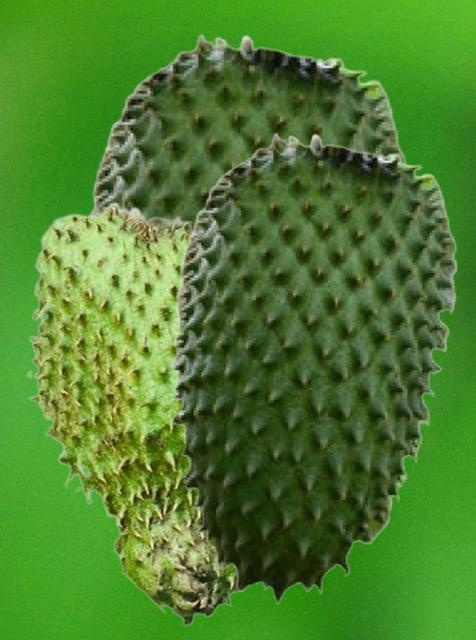guyabano: (170, 132, 457, 603), (25, 200, 247, 626), (88, 33, 407, 220)
